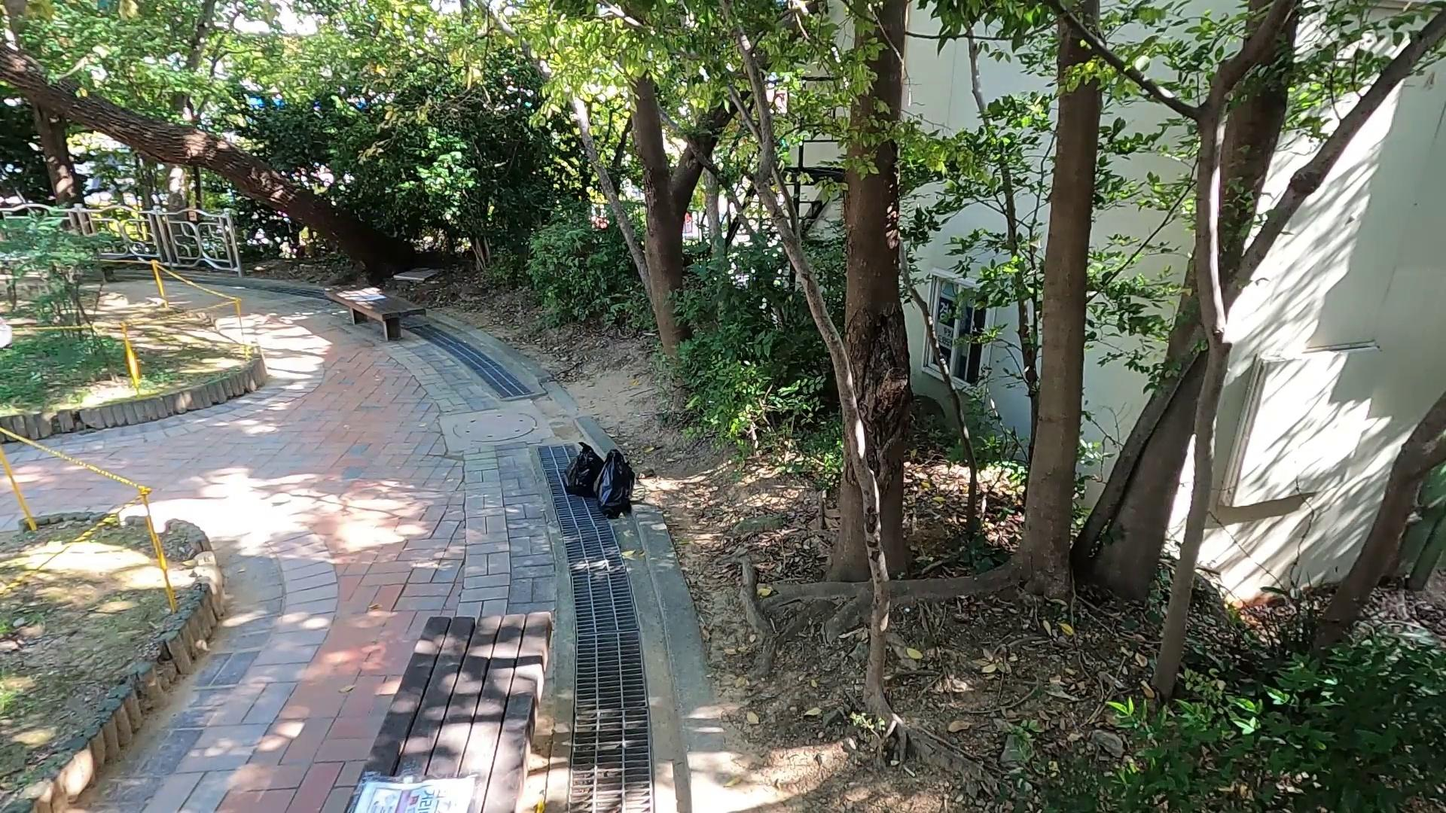trash: (563, 440, 611, 496), (595, 450, 634, 517)
